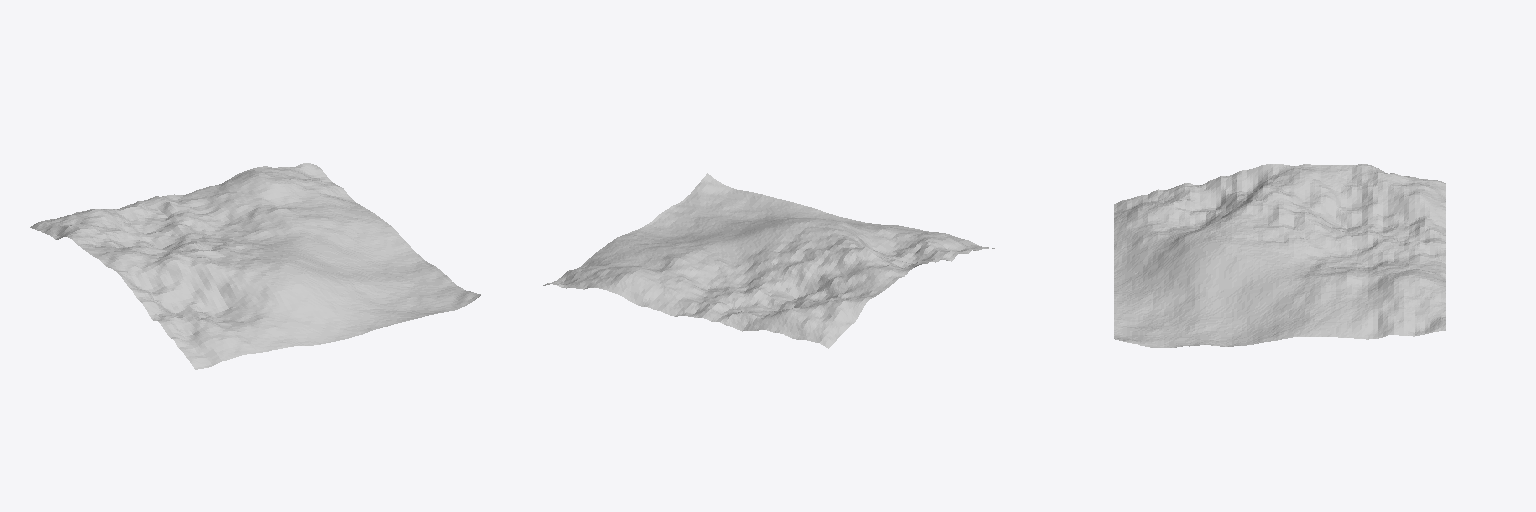
File: terrain.obj
3 renders of one model, left to right at view 1: azimuth 30°, elevation 25°; view 2: azimuth 150°, elevation 25°; view 3: azimuth 270°, elevation 25°, orthographic.
Size of the model in its own units: 1270 by 206 by 1270.